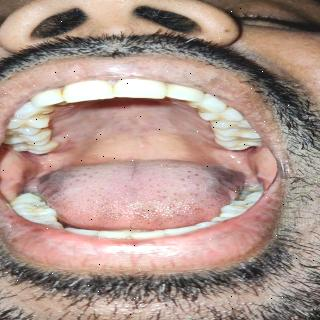cavities: (237, 185, 264, 200), (221, 200, 253, 212)
stains: (32, 113, 58, 127), (36, 128, 58, 140), (204, 118, 226, 128), (195, 108, 214, 119), (38, 105, 60, 114), (56, 88, 72, 99)
